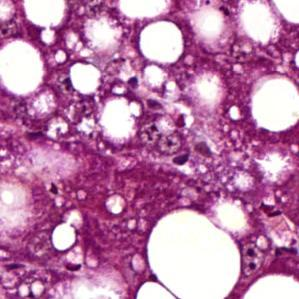steatosis: (247, 80, 299, 132), (137, 20, 191, 68)
